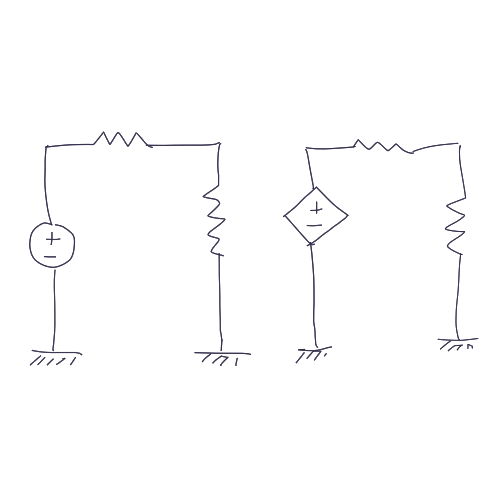dcvs: (25, 220, 79, 269)
res: (200, 175, 233, 267), (442, 191, 474, 266), (349, 131, 425, 162), (81, 126, 160, 155), (190, 343, 257, 368), (24, 346, 87, 372), (431, 331, 486, 358), (284, 343, 345, 366)
vcvs: (279, 183, 352, 251)
